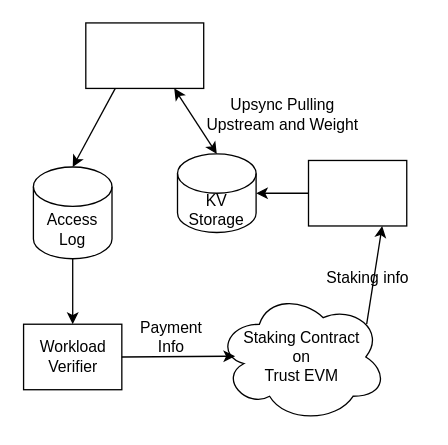
The diagram is 448 pixels wide and 445 high, and some of its shapes have lost their labels. Each missing label, with the centre of its shape:
"Nginx" goes at point (144, 55).
"Upstream Helper" goes at point (357, 192).
